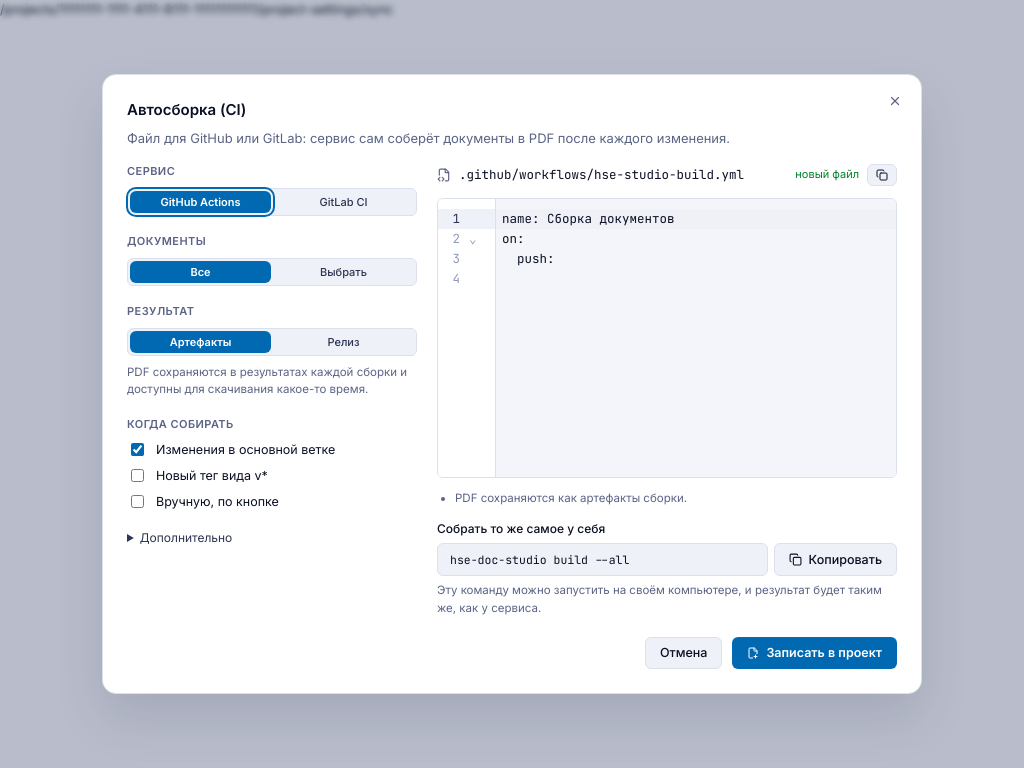
Test: окно автосборки (CI) › без единого запуска объясняет, что выбрать, и ждёт исправления
Expected: the element with test id "ci-yaml" is shown, top-left (437, 198), bottom-right (897, 478)
Click the checkbox with test id "ci-trigger-push".
click(138, 449)  # box top-left (131, 442), bottom-right (144, 456)
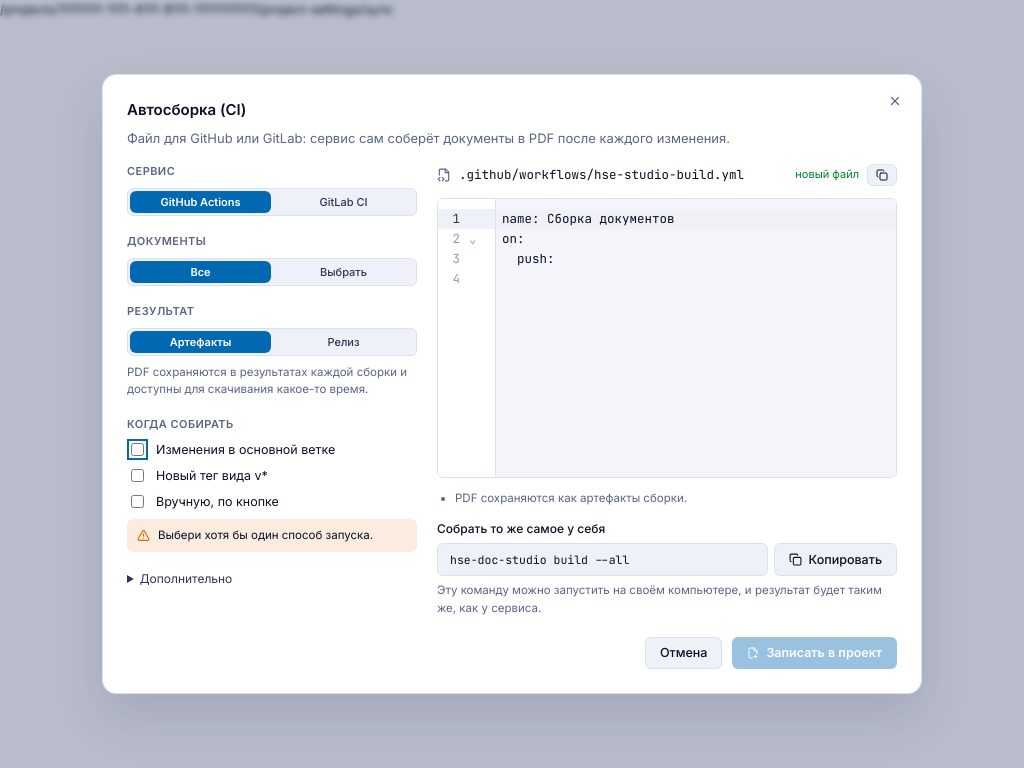
Expected: the text "Выбери хотя бы один способ запуска." is shown, top-left (158, 527), bottom-right (407, 544)
Expected: the button "Записать в проект" is disabled, top-left (732, 637), bottom-right (897, 669)
